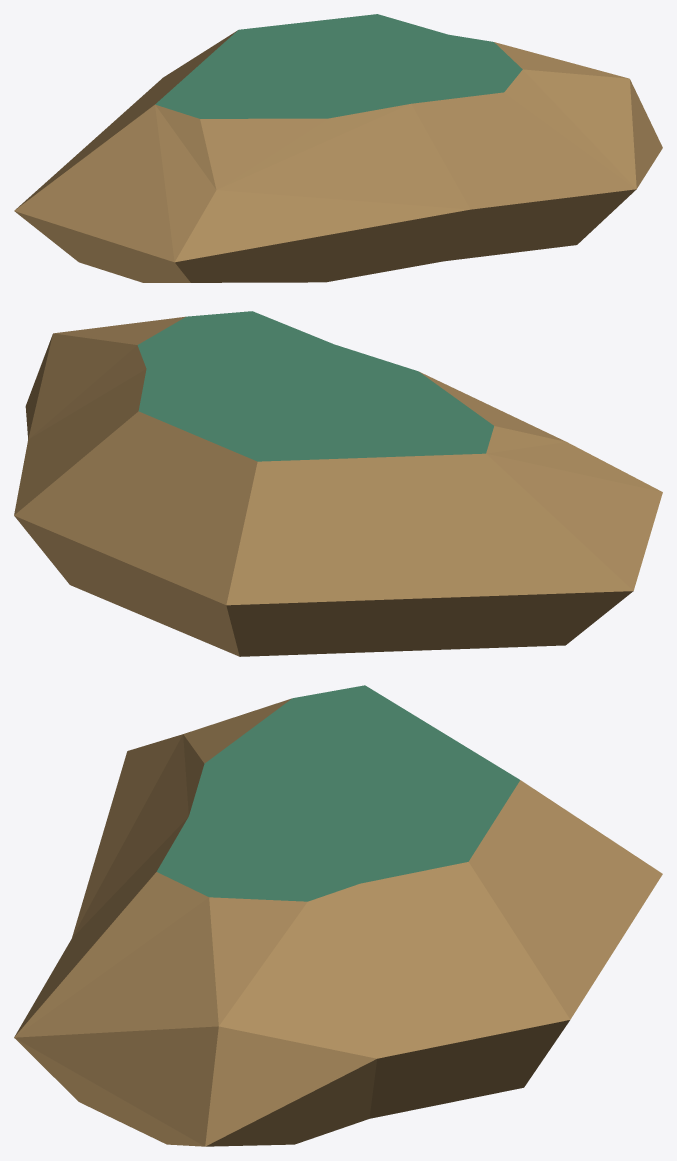
Rendered from Rock_Medium_Mesa_Eroded_Moss_Grass_Flat_03.FBX.
3 renders of one model, top to bottom at view 1: azimuth 30°, elevation 25°; view 2: azimuth 150°, elevation 25°; view 3: azimuth 270°, elevation 25°, orthographic. The views are drawn at different scales.
Parts seen in each view (by area): view 1: Rock_Medium_Mesa_Eroded_Moss_Grass_Flat_03; view 2: Rock_Medium_Mesa_Eroded_Moss_Grass_Flat_03; view 3: Rock_Medium_Mesa_Eroded_Moss_Grass_Flat_03.
Boxes of the visible parts, x1,y1,x2,y2 form: Rock_Medium_Mesa_Eroded_Moss_Grass_Flat_03: [14, 14, 662, 282]; Rock_Medium_Mesa_Eroded_Moss_Grass_Flat_03: [14, 311, 662, 656]; Rock_Medium_Mesa_Eroded_Moss_Grass_Flat_03: [14, 685, 662, 1146].
Size of the model in its own units: 5489 by 1286 by 3791.
